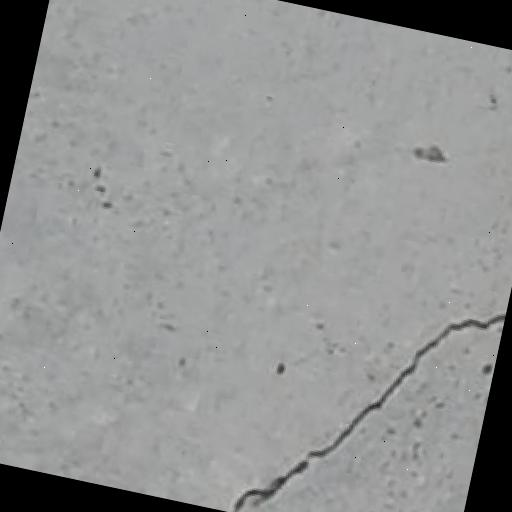spalling: (219, 304, 501, 512)
